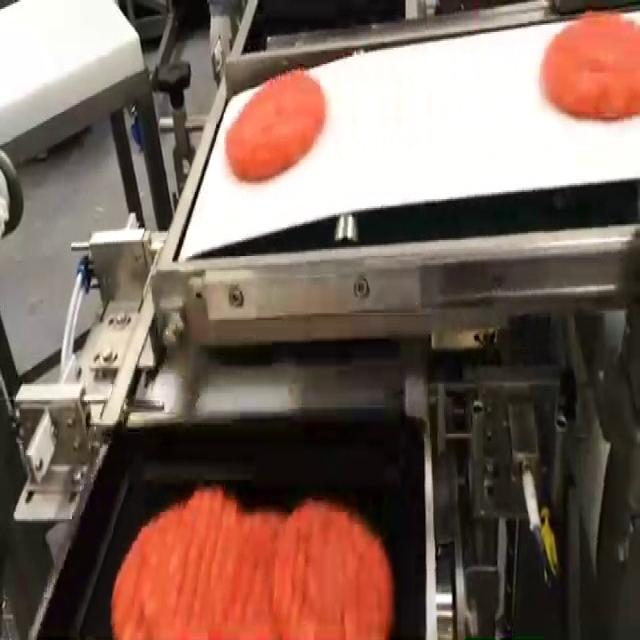4-hamburguer: (112, 487, 394, 638)
hamburguer: (225, 71, 325, 181)
